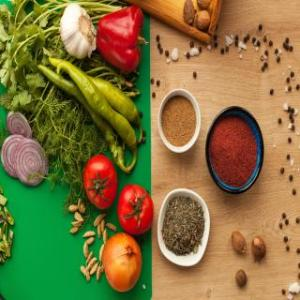bell_pepper: (95, 4, 147, 70)
garlic: (60, 4, 97, 62)
onion: (2, 110, 50, 195)
tomato: (82, 152, 114, 208), (121, 182, 153, 236)
